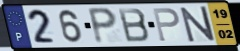2: (26, 8, 59, 46)
6: (57, 8, 84, 44)
B: (116, 7, 152, 44)
N: (179, 6, 217, 44)
P: (87, 7, 120, 46), (151, 7, 182, 43)
